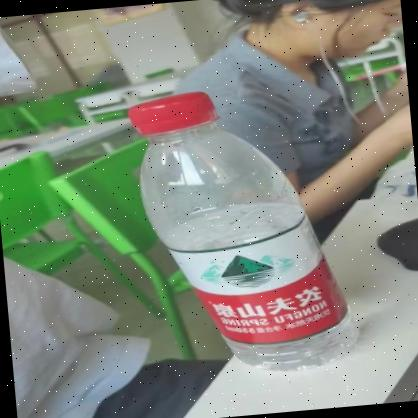bottle: (118, 82, 366, 384)
cap: (120, 78, 224, 145)
label: (162, 208, 340, 362)
